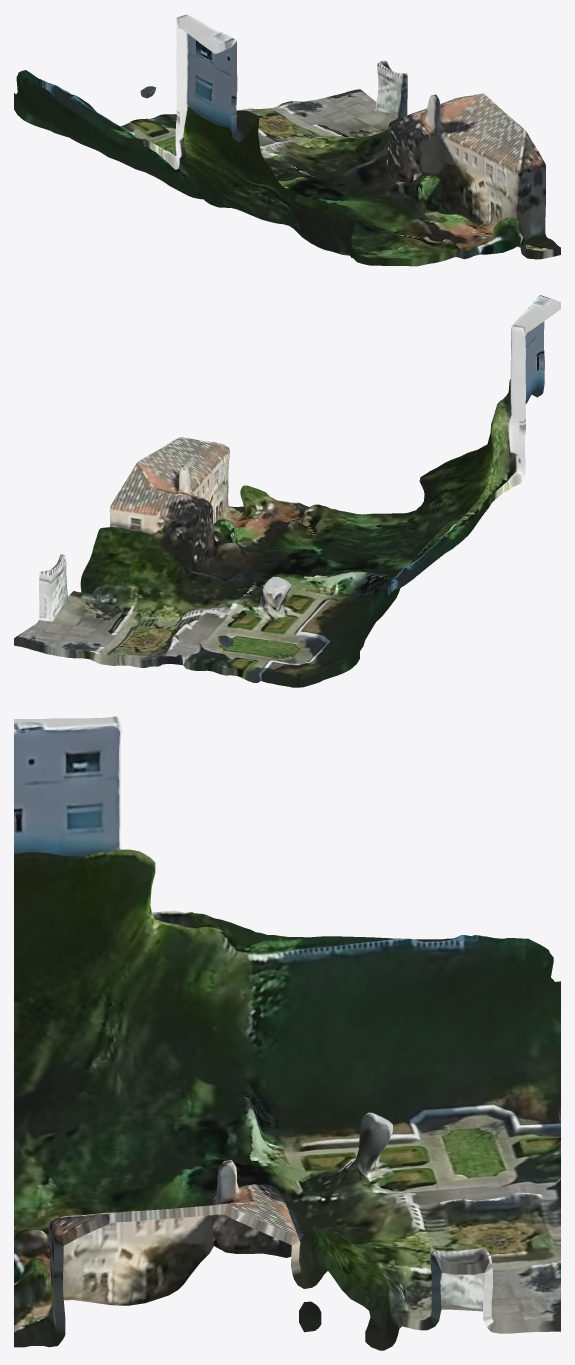
File: z20-167720-405193-h0-yup-uvflip-v3-world.glb
3 views of the same model, one above another, from view 1: azimuth 30°, elevation 25°; view 2: azimuth 150°, elevation 25°; view 3: azimuth 270°, elevation 25° (orthographic). The views are drawn at different scales.
Bounding box in the file's own units: 30.16 × 24.84 × 30.32.
1 material, 1 textured.
